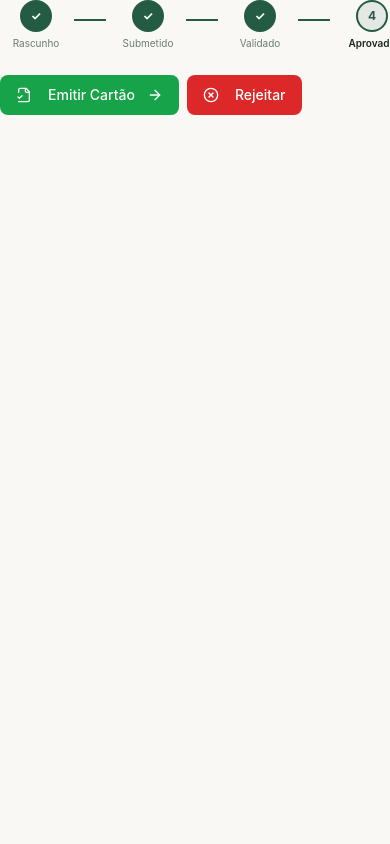
WorkflowActions — E2E DOM: transição approved → issued/active › Diálogo de confirmação — bloco explicativo › individual: banner AZUL com mensagem de cartão SIGAFLO
Click the button "Emitir Cartão" at (90,95), box [0, 75, 179, 115]
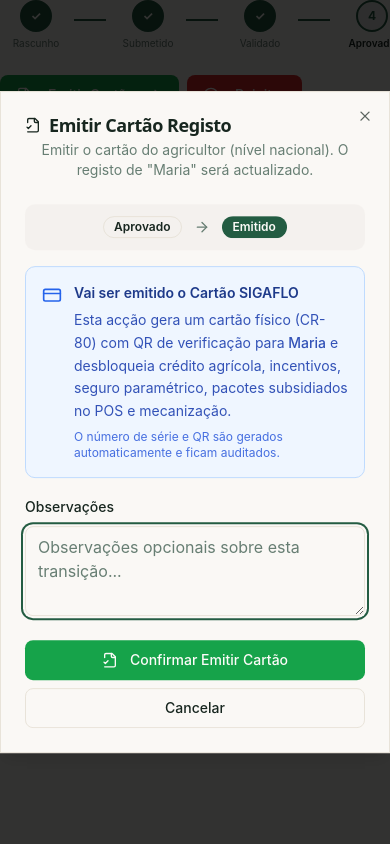
Result: the text "Vai ser emitido o Cartão SIGAFLO" is shown at [74, 284, 299, 301]
Result: the text "cartão físico (CR-80)" is shown at [74, 311, 326, 351]
Result: the text "Maria" is shown at [42, 141, 349, 178]
